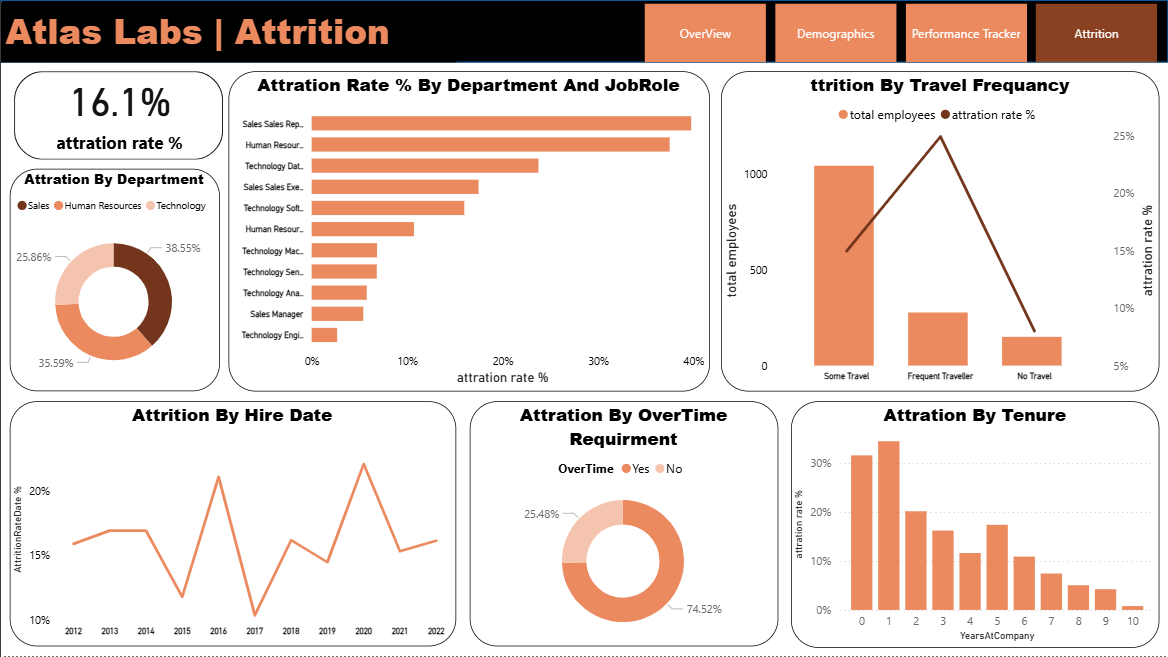

Layout of this report page (visuals, bound fields, positions):
{"tool":"powerbi","page":{"name":"Attrition","canvas":[1280,720],"ordinal":3},"visuals":[{"type":"shape","box":[0,0,1280,68.6],"z":0},{"type":"textbox","box":[0,2.7,499.5,65.9],"z":1000},{"type":"cardVisual","fields":{"Data":["_measures.attration rate %"]},"box":[9.6,78.1,239.9,97.3],"z":2000},{"type":"clusteredBarChart","title":"Attration Rate % By Department And JobRole","fields":{"Category":["DimEmployee.Department","DimEmployee.JobRole"],"Y":["_measures.attration rate %"]},"box":[249.5,78.1,527.7,350.9],"z":3000},{"type":"lineChart","title":"Attrition By Hire Date","fields":{"Category":["DimDate.Year"],"Y":["_measures.AttritionRateDate %"]},"box":[9.6,440,489.4,268.7],"z":4000},{"type":"lineStackedColumnComboChart","title":"ttrition By Travel Frequancy","fields":{"Category":["DimEmployee.BusinessTravel"],"Y":["_measures.total employees"],"Y2":["_measures.attration rate %"]},"box":[789.6,78.1,481.1,350.9],"z":5000},{"type":"donutChart","title":"Attration By OverTime Requirment","fields":{"Category":["DimEmployee.OverTime"],"Y":["_measures.attration rate %"]},"box":[514,440,338.6,268.7],"z":6000},{"type":"clusteredColumnChart","title":"Attration By Tenure","fields":{"Y":["_measures.attration rate %"],"Category":["DimEmployee.YearsAtCompany"]},"box":[866.3,440,404.4,270],"z":7000},{"type":"donutChart","title":"Attration By Department","fields":{"Y":["_measures.attration rate %"],"Category":["DimEmployee.Department"]},"box":[9.6,185.1,230.3,244],"z":8000},{"type":"pageNavigator","box":[705.9,4.1,564.7,64.4],"z":8001}]}

Visuals, with their boxes in screenshot pixels (x1, y1, x2, y2), scaled from the page's 1280x720 canvas onto the 1168x657 screenshot:
shape: left=0, top=0, right=1167, bottom=63
textbox: left=0, top=2, right=456, bottom=63
cardVisual - _measures.attration rate %: left=9, top=71, right=228, bottom=160
"Attration Rate % By Department And JobRole" clusteredBarChart: left=228, top=71, right=709, bottom=391
"Attrition By Hire Date" lineChart: left=9, top=402, right=455, bottom=647
"ttrition By Travel Frequancy" lineStackedColumnComboChart: left=721, top=71, right=1160, bottom=391
"Attration By OverTime Requirment" donutChart: left=469, top=402, right=778, bottom=647
"Attration By Tenure" clusteredColumnChart: left=790, top=402, right=1160, bottom=648
"Attration By Department" donutChart: left=9, top=169, right=219, bottom=392
pageNavigator: left=644, top=4, right=1159, bottom=63
